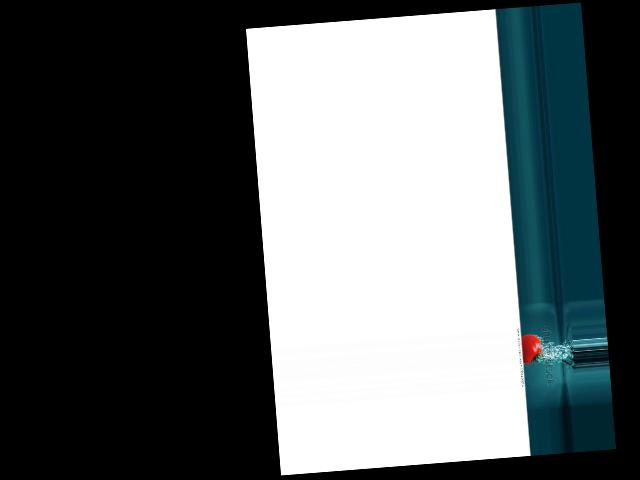tomato: (520, 334, 542, 364)
